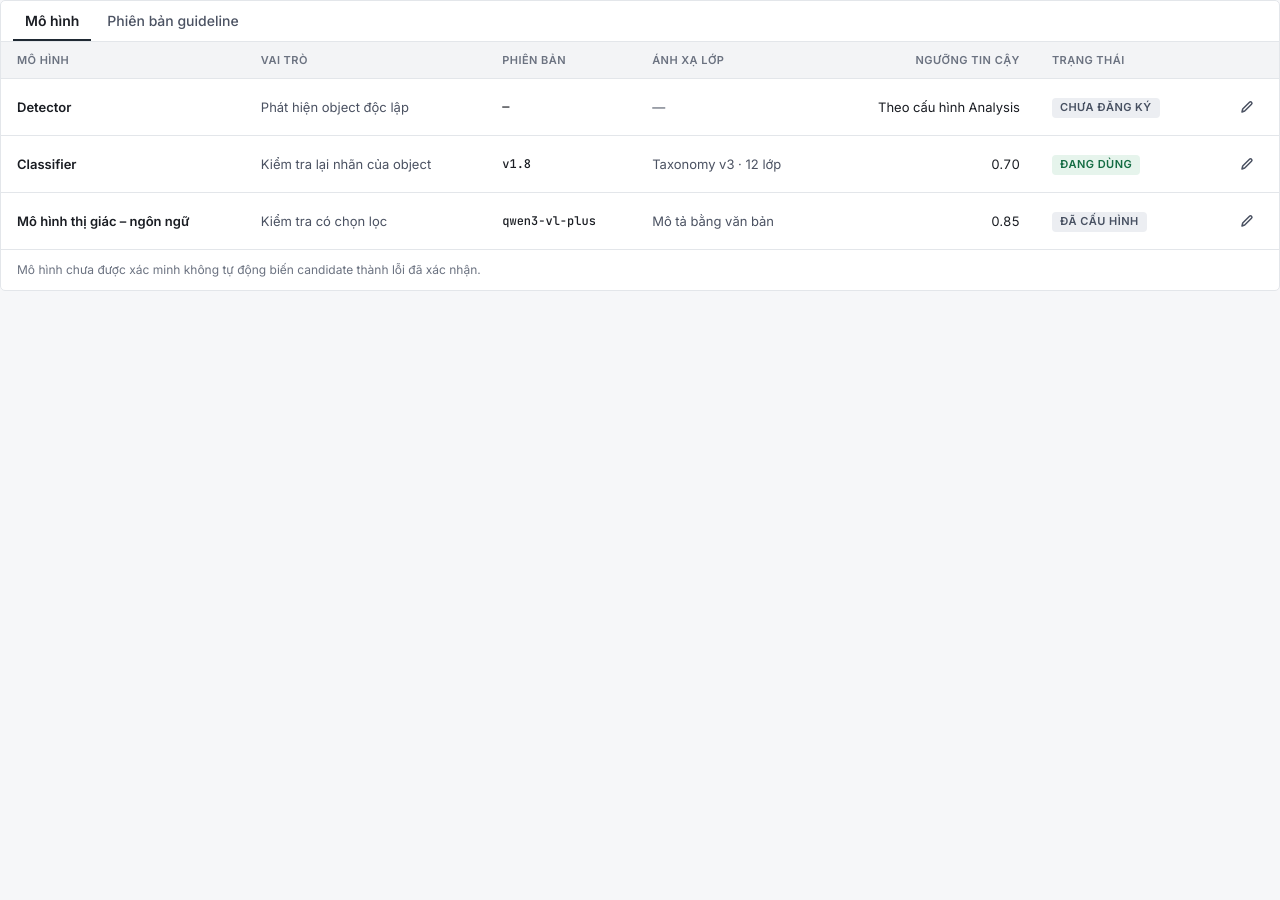
VLM settings › saves the routing confidence threshold and updates the model row
Expected: the text "0.85" is shown, [828,192,1036,249]
Click the button named "Chỉnh mô hình" in the row of "Mô hình thị giác – ngôn ngữ". click: (1247, 221)
box: [1231,205,1263,237]
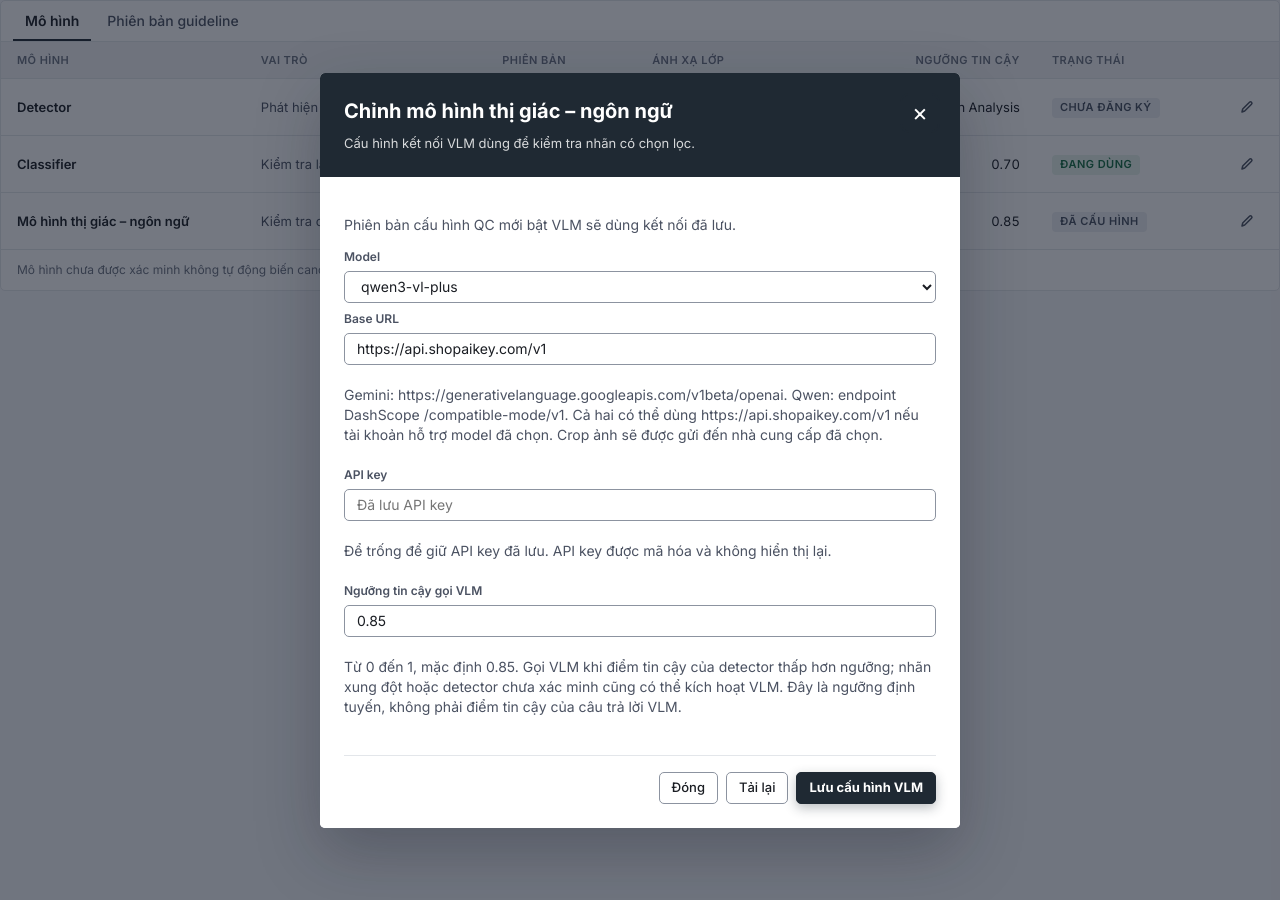
Replace the text in the number field labelled "Ngưỡng tin cậy gọi VLM" with "0.60". click: (640, 620)
box: [344,604,936,636]
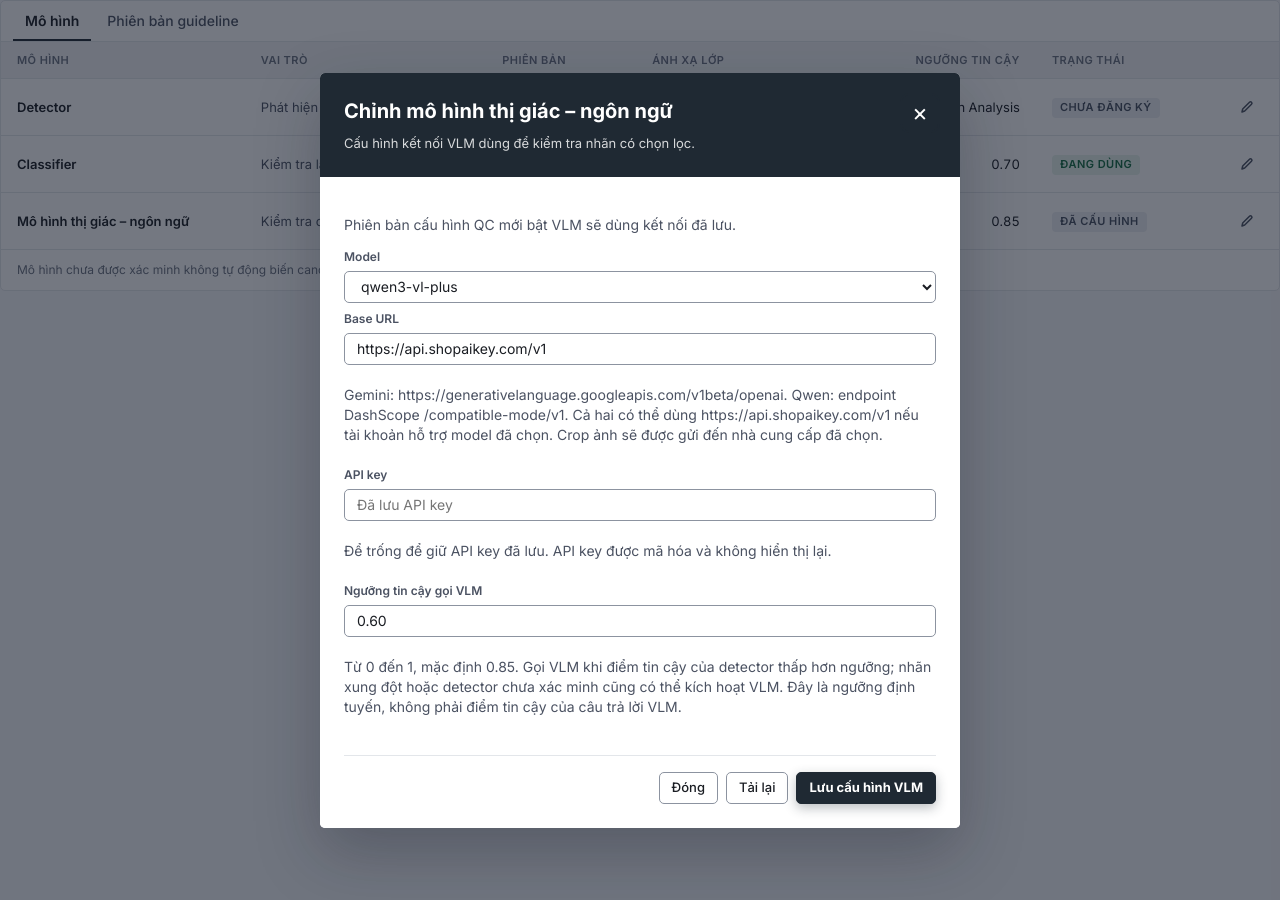
Click the button "Lưu cấu hình VLM". click: (866, 788)
box: [796,772,936,804]
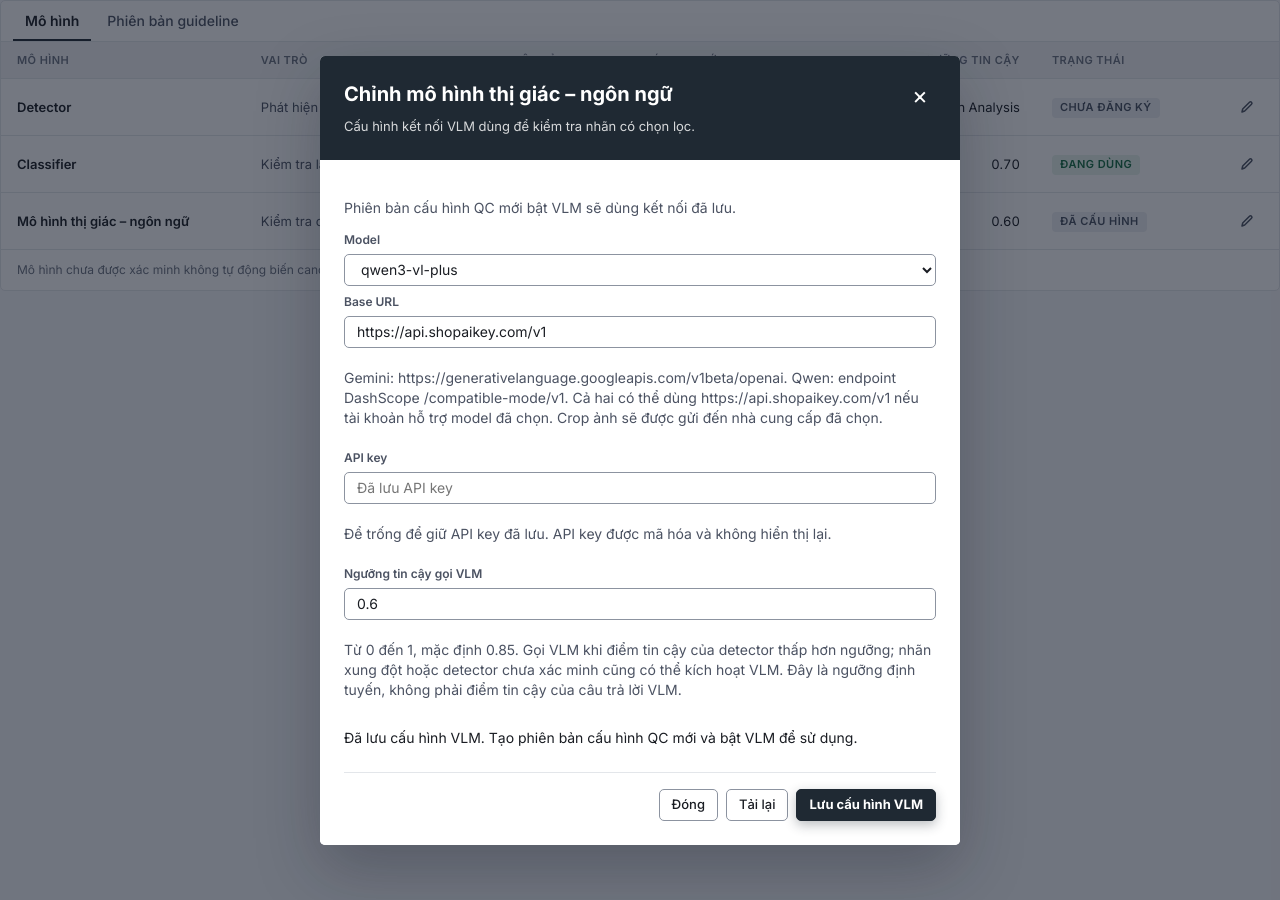
Now the text "0.60" is shown, box [828,192,1036,249]
